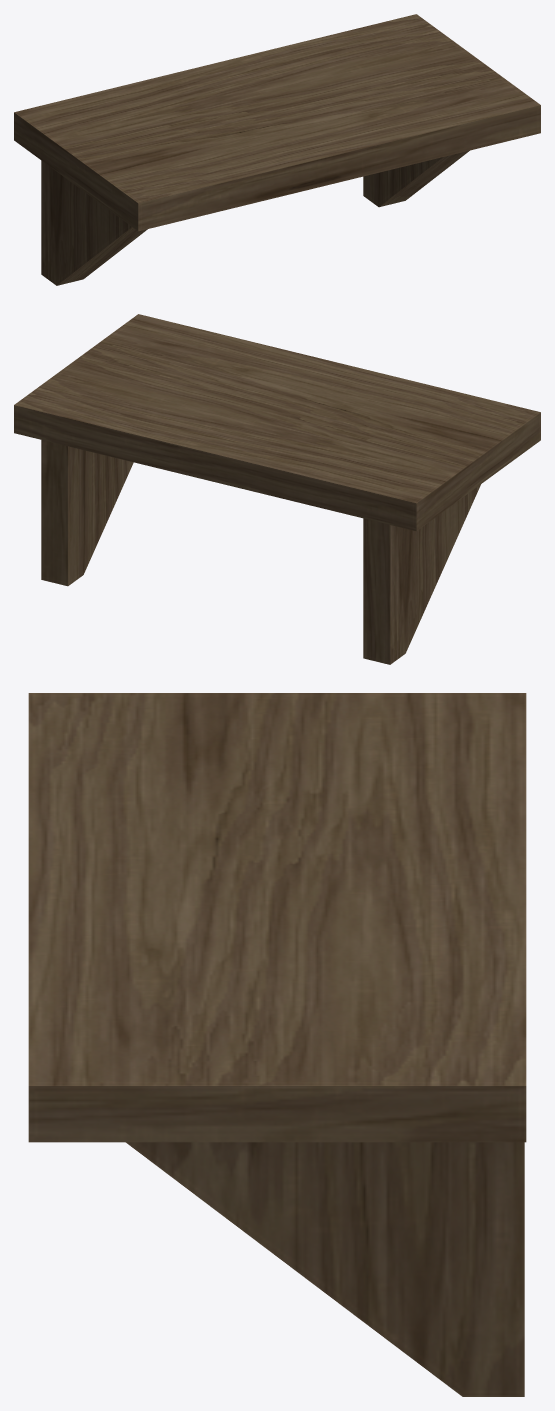
The model's file is sb_obj_indoor021_WallShalf02b.fbx.
3 views of the same model, one above another, from view 1: azimuth 30°, elevation 25°; view 2: azimuth 150°, elevation 25°; view 3: azimuth 270°, elevation 25° (orthographic). The views are drawn at different scales.
Visible parts, largest first — view 1: sb_obj_indoor021_WallShalf02b; view 2: sb_obj_indoor021_WallShalf02b; view 3: sb_obj_indoor021_WallShalf02b.
Part boxes in pixels (<box>): sb_obj_indoor021_WallShalf02b: <box>14,14,540,285</box>; sb_obj_indoor021_WallShalf02b: <box>14,314,540,664</box>; sb_obj_indoor021_WallShalf02b: <box>28,693,526,1396</box>.
Size of the model in its own units: 0.7196 by 0.2878 by 0.3851.
